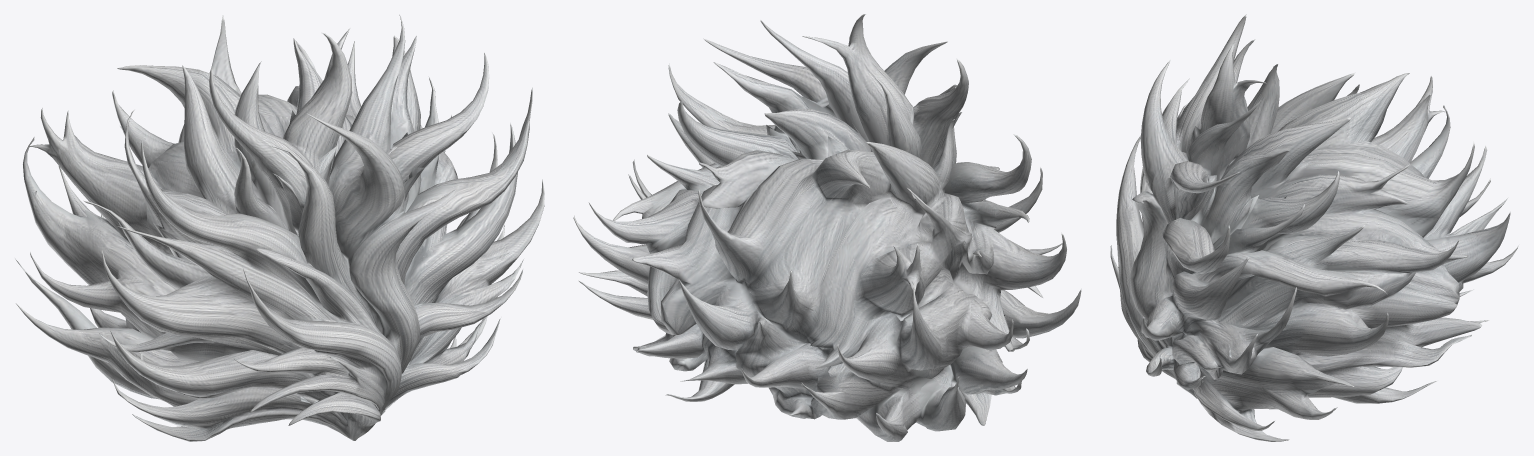
File: hair-4.glb
3 renders of one model, left to right at view 1: azimuth 30°, elevation 25°; view 2: azimuth 150°, elevation 25°; view 3: azimuth 270°, elevation 25°, orthographic. The views are drawn at different scales.
Size of the model in its own units: 0.9531 by 0.7559 by 0.7998.
Materials: 1 (1 with a texture image).
